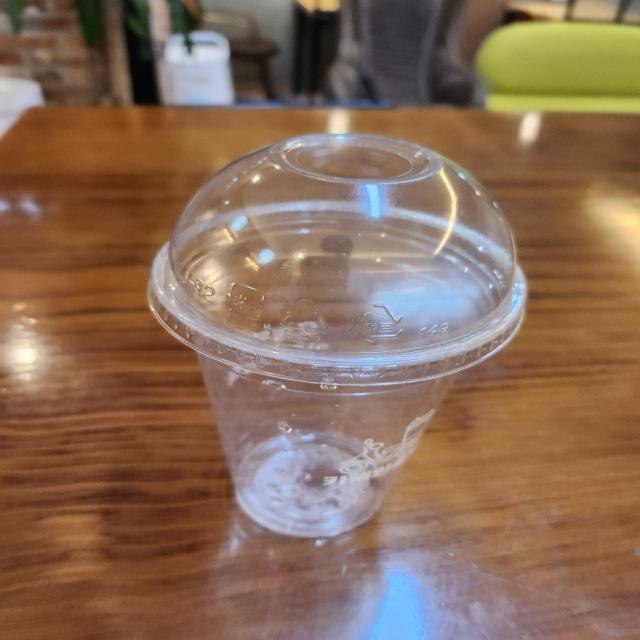plastic_cup_lid: (149, 129, 536, 393)
